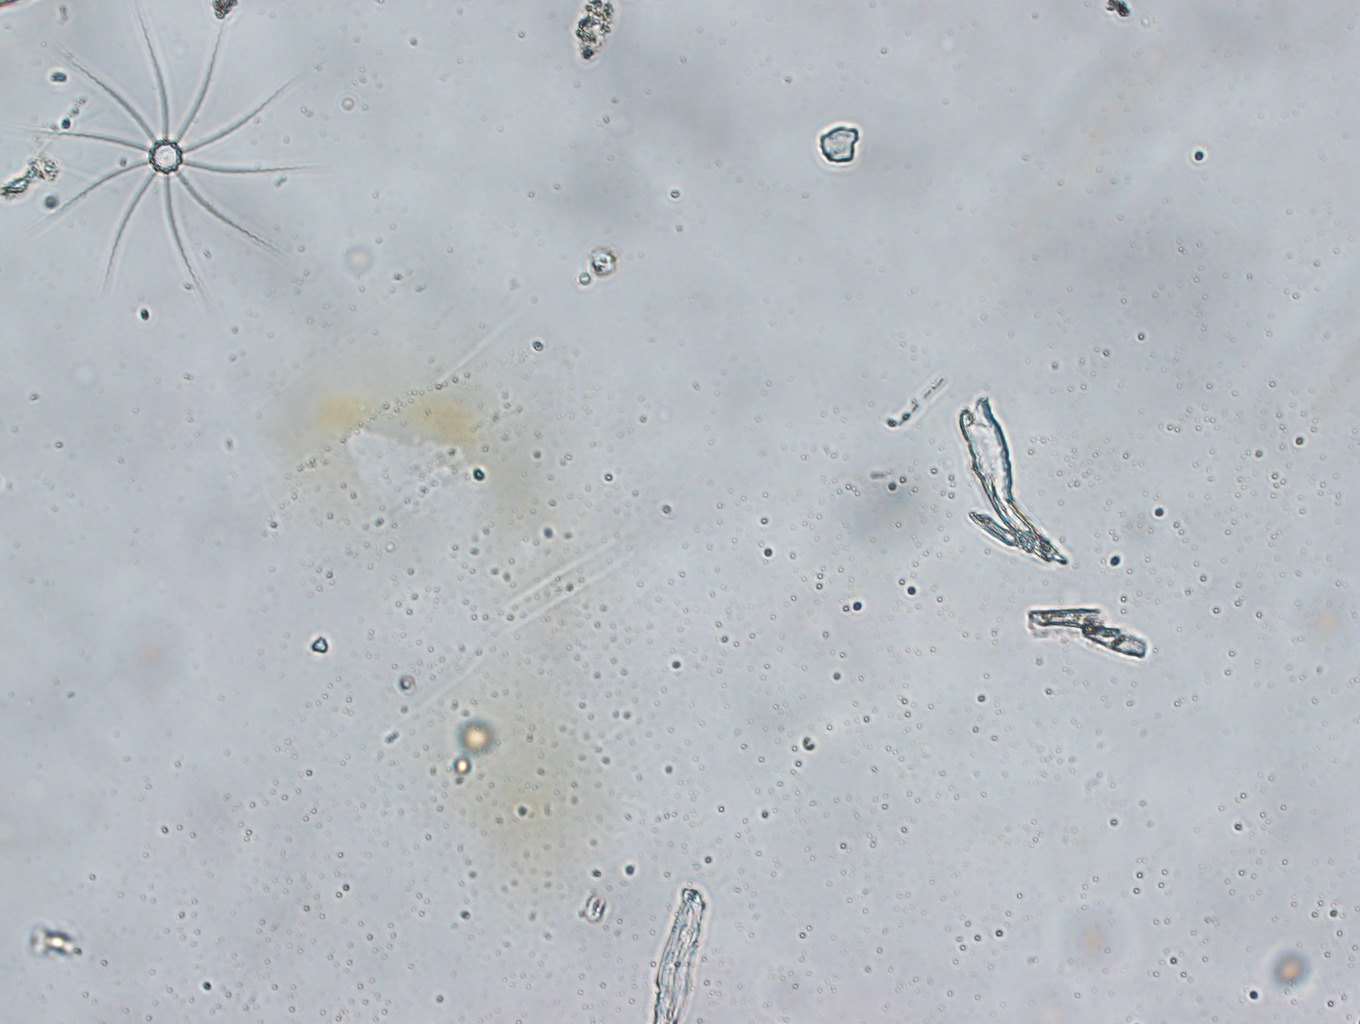bacteriastrum: (14, 1, 324, 308)
